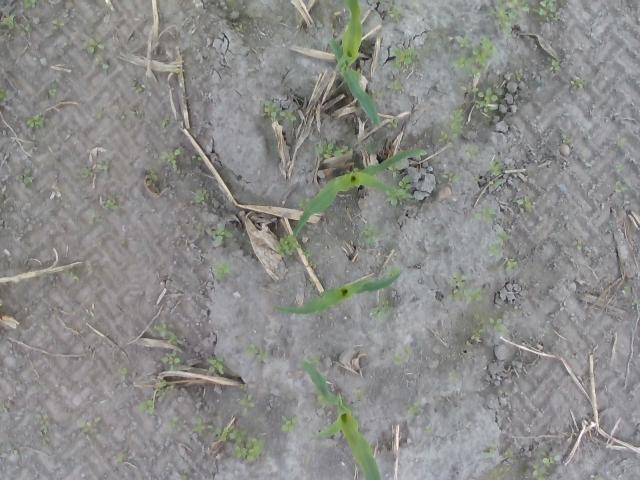Maize: (290, 146, 430, 246), (301, 359, 384, 480), (325, 1, 384, 131), (273, 266, 406, 316)
Weeds: (497, 0, 558, 39), (453, 34, 495, 78), (214, 425, 262, 463), (448, 274, 484, 306), (530, 454, 564, 480), (263, 99, 296, 124), (387, 177, 412, 204), (152, 322, 178, 344), (477, 87, 500, 111), (392, 47, 418, 67), (161, 148, 181, 174), (370, 298, 394, 319), (316, 142, 342, 160), (449, 107, 465, 136), (392, 347, 414, 368), (36, 412, 50, 444), (476, 206, 498, 226), (212, 226, 233, 246), (364, 226, 384, 247), (240, 389, 255, 417), (162, 350, 180, 373), (82, 164, 110, 178), (210, 262, 230, 280), (154, 380, 174, 398), (208, 356, 225, 376), (279, 236, 295, 256), (248, 344, 268, 360), (282, 416, 300, 433), (0, 14, 19, 30), (80, 418, 100, 433), (86, 36, 104, 52), (44, 84, 59, 102), (27, 114, 46, 128), (16, 169, 32, 185), (102, 198, 121, 210), (388, 80, 404, 94), (138, 399, 154, 413), (489, 317, 505, 331), (462, 84, 480, 96), (490, 160, 502, 176), (518, 196, 530, 212), (196, 420, 212, 432), (443, 172, 460, 183), (505, 259, 518, 272), (194, 192, 207, 205), (407, 402, 419, 416), (388, 6, 400, 20), (171, 416, 180, 432), (132, 108, 146, 118), (499, 231, 512, 241), (573, 78, 585, 88), (615, 181, 625, 193), (487, 445, 497, 457), (440, 131, 453, 140), (100, 60, 110, 71), (472, 330, 483, 340), (551, 60, 560, 71), (466, 147, 476, 156), (51, 20, 60, 30), (134, 82, 145, 90), (122, 366, 128, 380), (489, 244, 498, 253), (506, 448, 514, 458), (96, 110, 104, 117), (118, 455, 126, 462), (0, 87, 5, 97), (618, 166, 624, 174), (620, 142, 625, 146)
